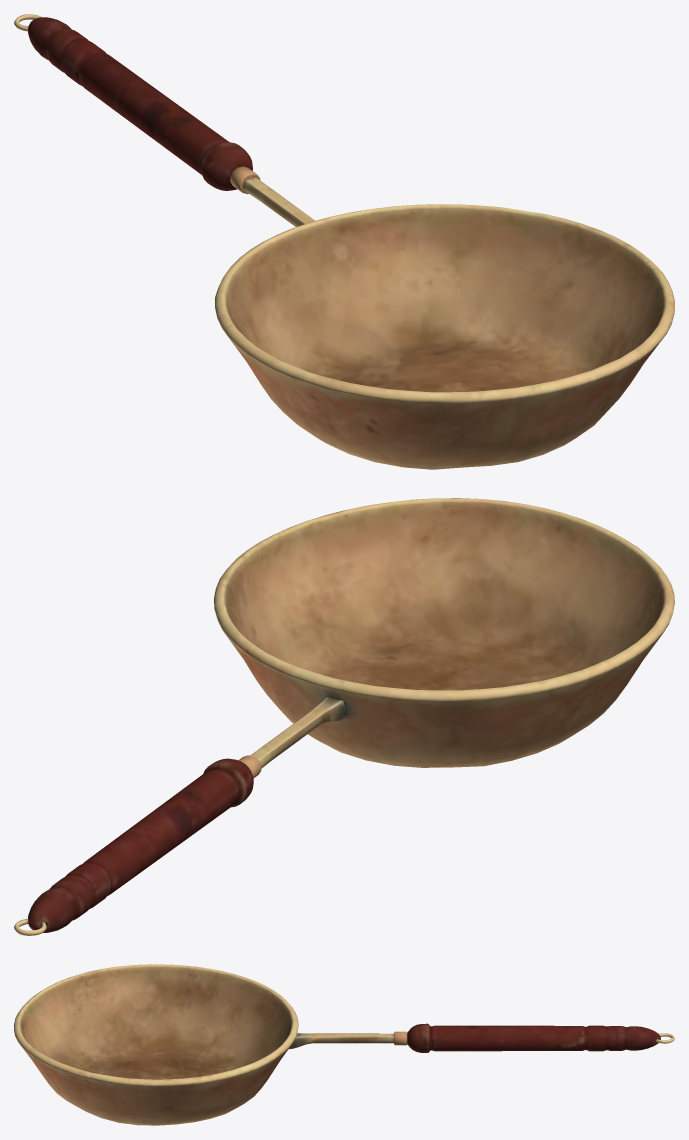
The model's file is brass_pan_01.glb.
The picture shows the model from 3 angles, top to bottom: view 1: azimuth 30°, elevation 25°; view 2: azimuth 150°, elevation 25°; view 3: azimuth 270°, elevation 25°; orthographic projection. The views are drawn at different scales.
Visible parts, largest first — view 1: brass_pan_01; view 2: brass_pan_01; view 3: brass_pan_01.
Part boxes in pixels (x1=…): brass_pan_01: x1=14, y1=14, x2=674, y2=469; brass_pan_01: x1=14, y1=498, x2=674, y2=935; brass_pan_01: x1=14, y1=964, x2=674, y2=1125.
Bounding box in the file's own units: 0.1913 × 0.0525 × 0.4497.
1 material, 1 textured.
